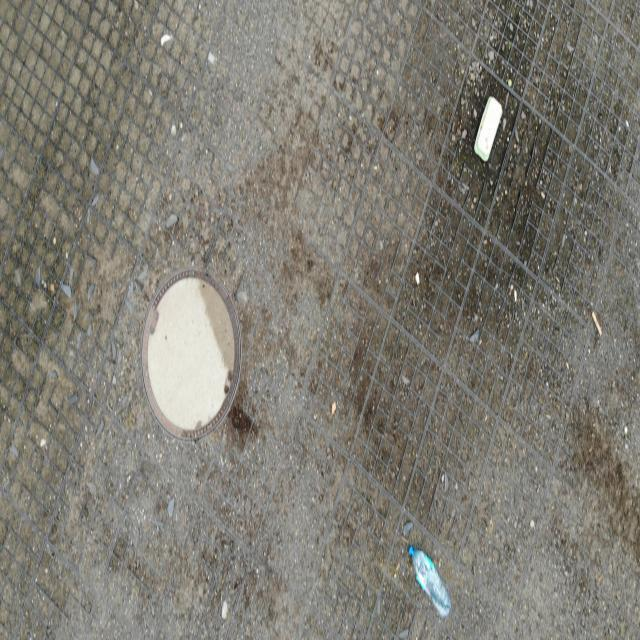rubbish: (408, 545, 452, 617), (473, 95, 504, 163)
